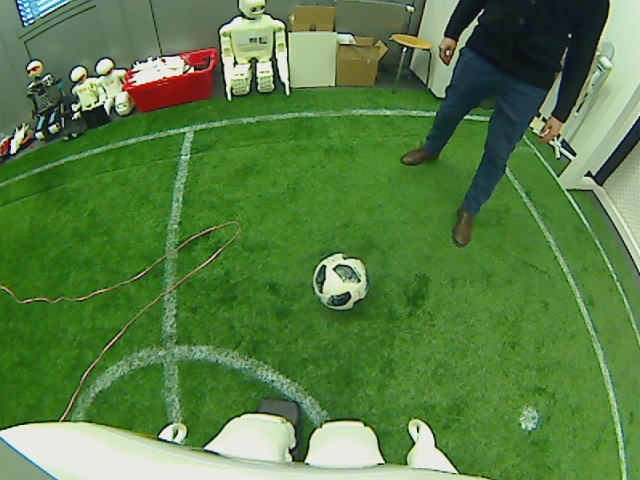ball: (310, 251, 370, 311)
